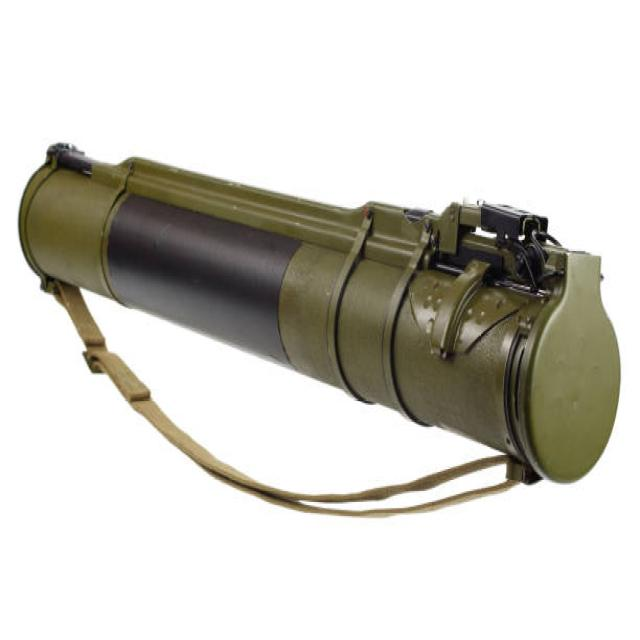bazooka: (18, 141, 629, 523)
